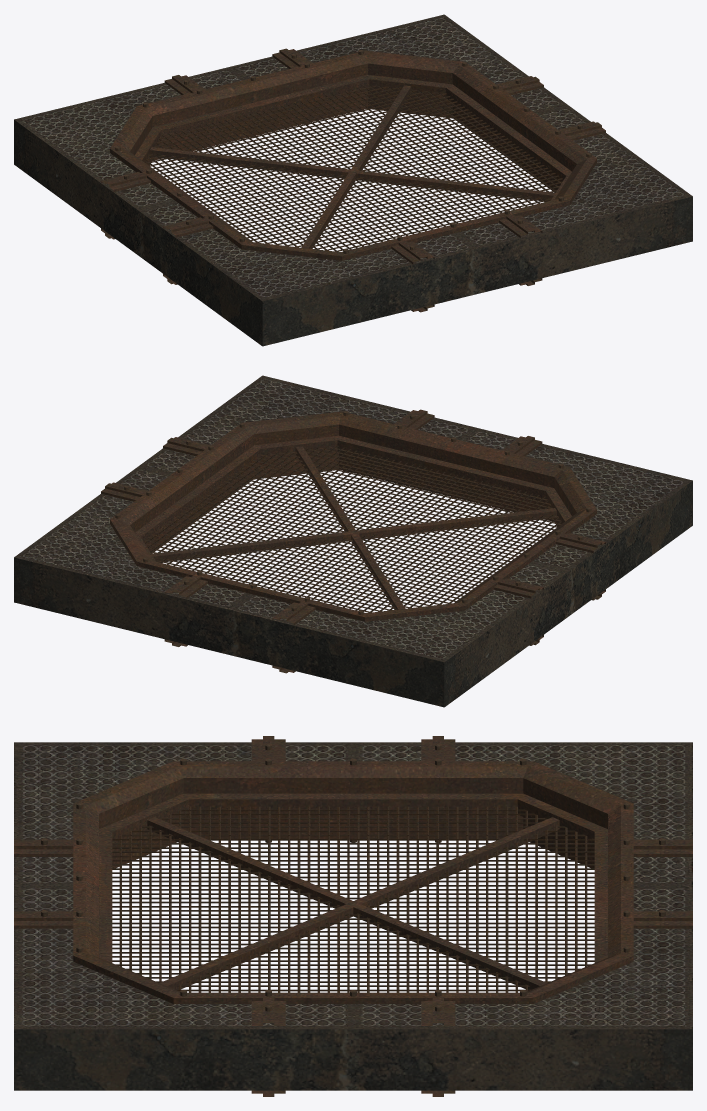
File: floor_ceiling_rtx_2.obj
3 renders of one model, top to bottom at view 1: azimuth 30°, elevation 25°; view 2: azimuth 150°, elevation 25°; view 3: azimuth 270°, elevation 25°, orthographic. The views are drawn at different scales.
Parts seen in each view (by area): view 1: floor_ceiling_rtx_2, floor_ceiling_rtx_2_panel_child; view 2: floor_ceiling_rtx_2, floor_ceiling_rtx_2_panel_child; view 3: floor_ceiling_rtx_2, floor_ceiling_rtx_2_panel_child.
Boxes of the visible parts, left/top/right/bottom form: floor_ceiling_rtx_2: left=14, top=14, right=692, bottom=346; floor_ceiling_rtx_2_panel_child: left=135, top=74, right=571, bottom=251; floor_ceiling_rtx_2: left=14, top=375, right=692, bottom=707; floor_ceiling_rtx_2_panel_child: left=135, top=435, right=571, bottom=612; floor_ceiling_rtx_2: left=14, top=736, right=692, bottom=1096; floor_ceiling_rtx_2_panel_child: left=99, top=793, right=607, bottom=992.
Size of the model in its own units: 4 by 0.5303 by 4.
